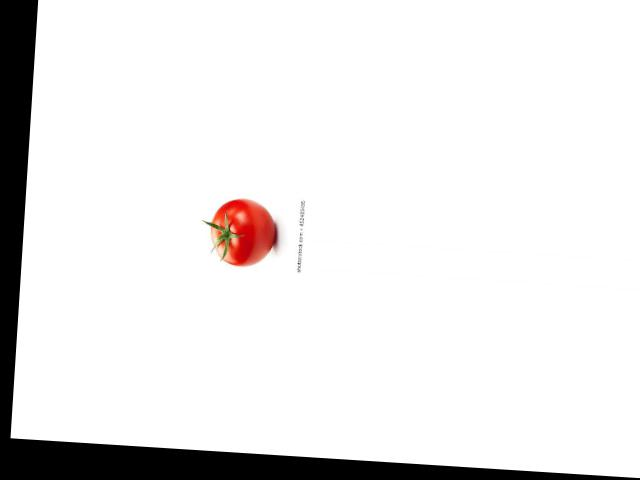tomato: (208, 197, 277, 267)
